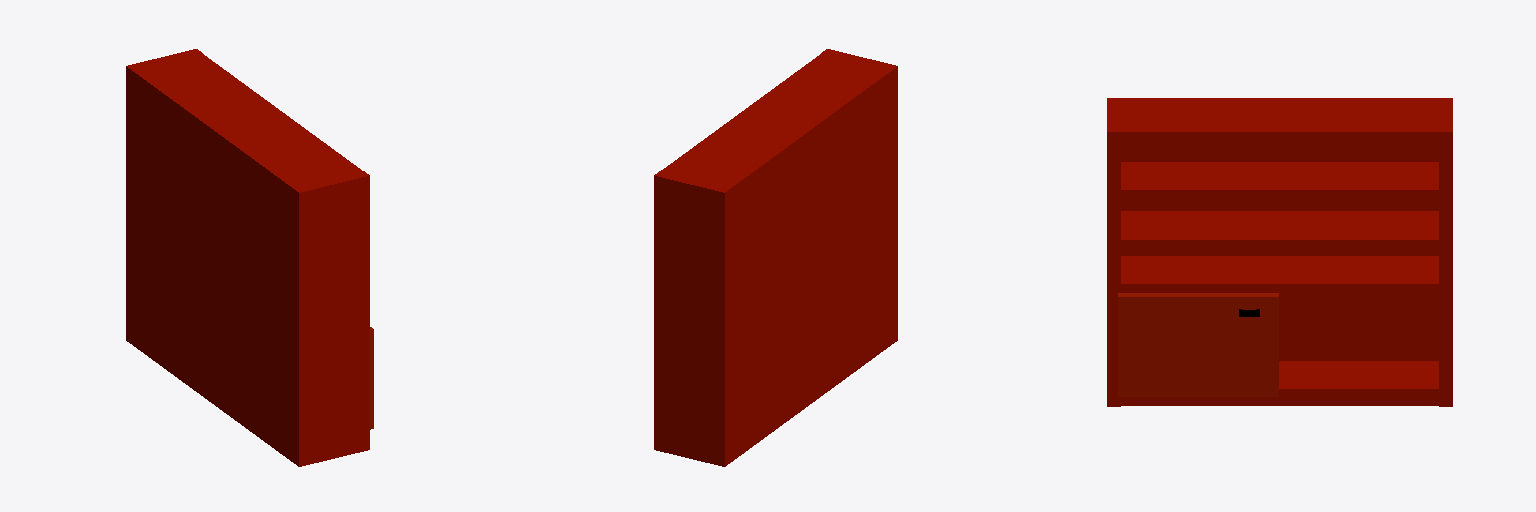
Rendered from biblioteca.obj.
3 renders of one model, left to right at view 1: azimuth 30°, elevation 25°; view 2: azimuth 150°, elevation 25°; view 3: azimuth 270°, elevation 25°, orthographic.
Parts seen in each view (by area): view 1: Cube; view 2: Cube; view 3: Cube, Cube.005_Cube.006, Cube.003_Cube.004, Cube.001, Cube.006_Cube.011.
Boxes of the visible parts, x1=… form: Cube: x1=126, y1=49, x2=369, y2=466; Cube: x1=654, y1=49, x2=897, y2=466; Cube: x1=1107, y1=98, x2=1452, y2=406; Cube.005_Cube.006: x1=1118, y1=293, x2=1278, y2=396; Cube.003_Cube.004: x1=1121, y1=211, x2=1438, y2=248; Cube.001: x1=1121, y1=256, x2=1438, y2=293; Cube.006_Cube.011: x1=1121, y1=162, x2=1438, y2=198.
Bounding box in the file's own units: 3.45 × 10.41 × 11.93.